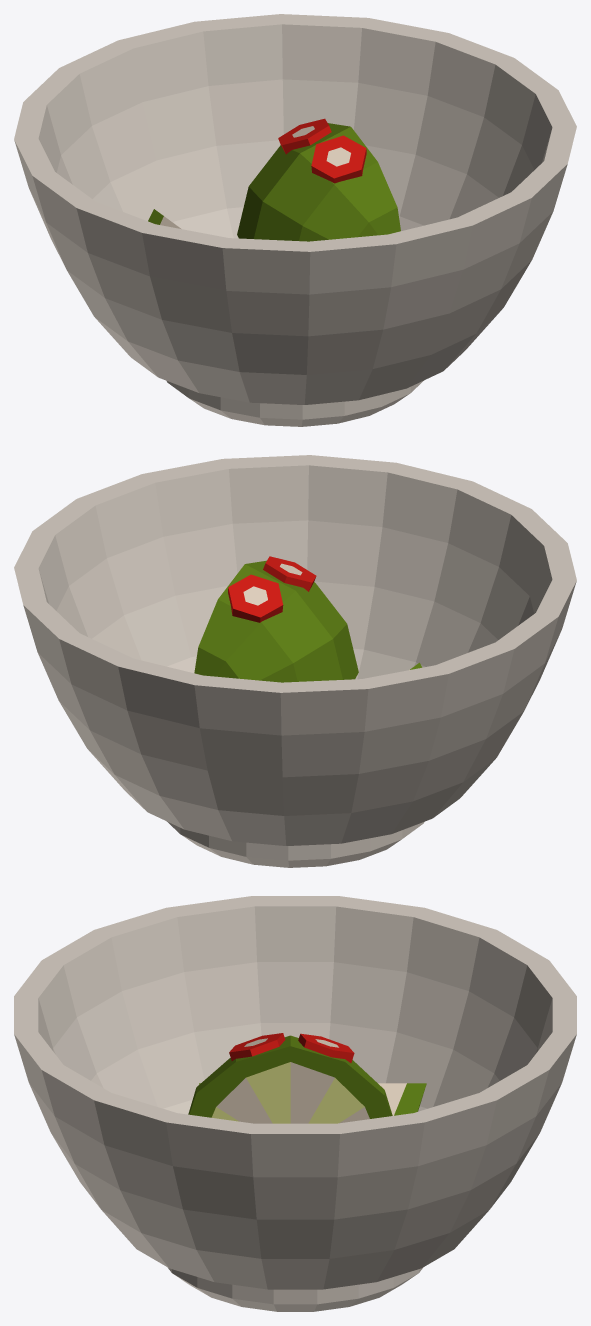
The model's file is SM_Cook_SideBowl_Lime_01.obj.
The picture shows the model from 3 angles, top to bottom: view 1: azimuth 30°, elevation 25°; view 2: azimuth 150°, elevation 25°; view 3: azimuth 270°, elevation 25°; orthographic projection.
Parts seen in each view (by area): view 1: SM_Cook_SideBowl_Lime_01; view 2: SM_Cook_SideBowl_Lime_01; view 3: SM_Cook_SideBowl_Lime_01.
Part boxes in pixels (box(x1,y1,x2,y2)): SM_Cook_SideBowl_Lime_01: box(14, 14, 576, 426); SM_Cook_SideBowl_Lime_01: box(14, 455, 576, 867); SM_Cook_SideBowl_Lime_01: box(14, 896, 576, 1311).
Bounding box in the file's own units: 0.1136 × 0.055 × 0.1136.
Materials: 1 (1 with a texture image).
